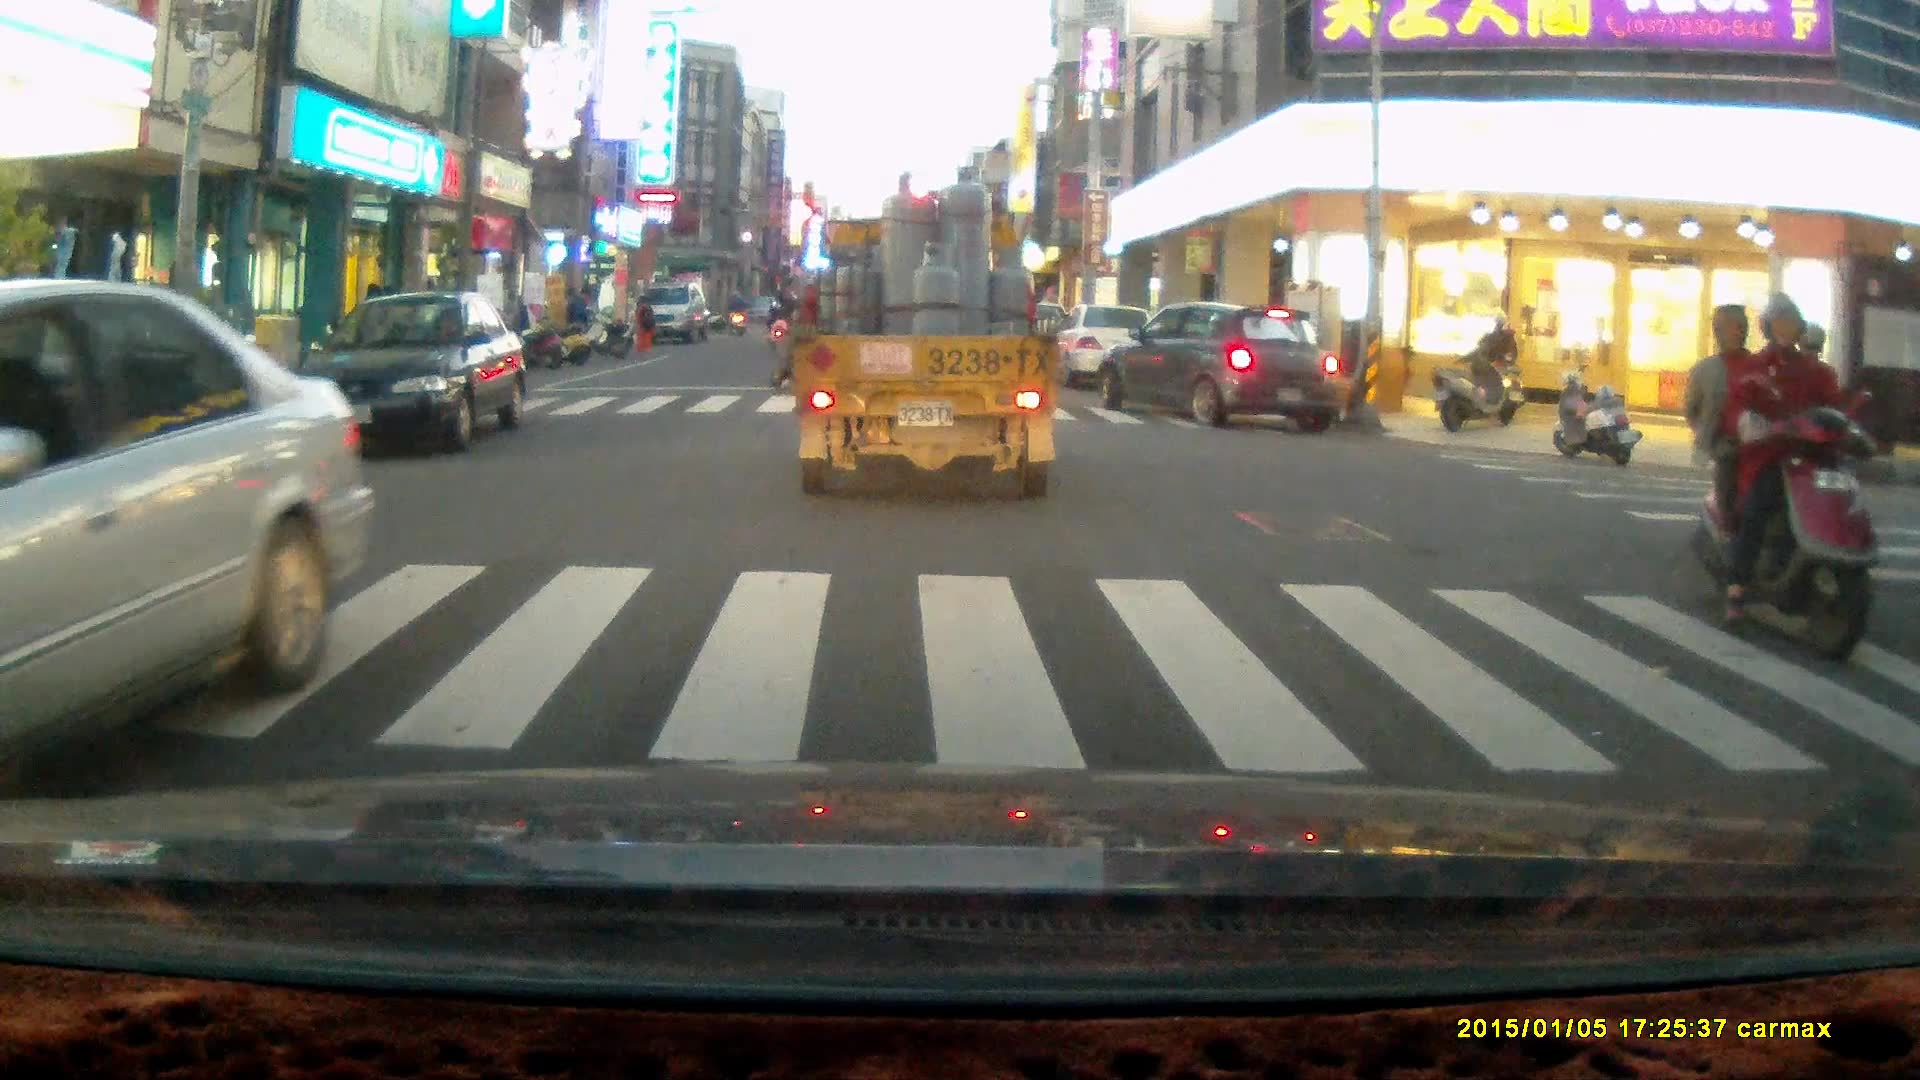pedestrian: (563, 284, 592, 350), (629, 295, 653, 355)
rider: (1681, 292, 1877, 666), (1465, 309, 1524, 428)
vehicle: (1, 279, 379, 793), (790, 162, 1071, 499), (295, 292, 529, 454), (1097, 303, 1339, 430), (1051, 306, 1170, 395), (630, 280, 704, 340)
